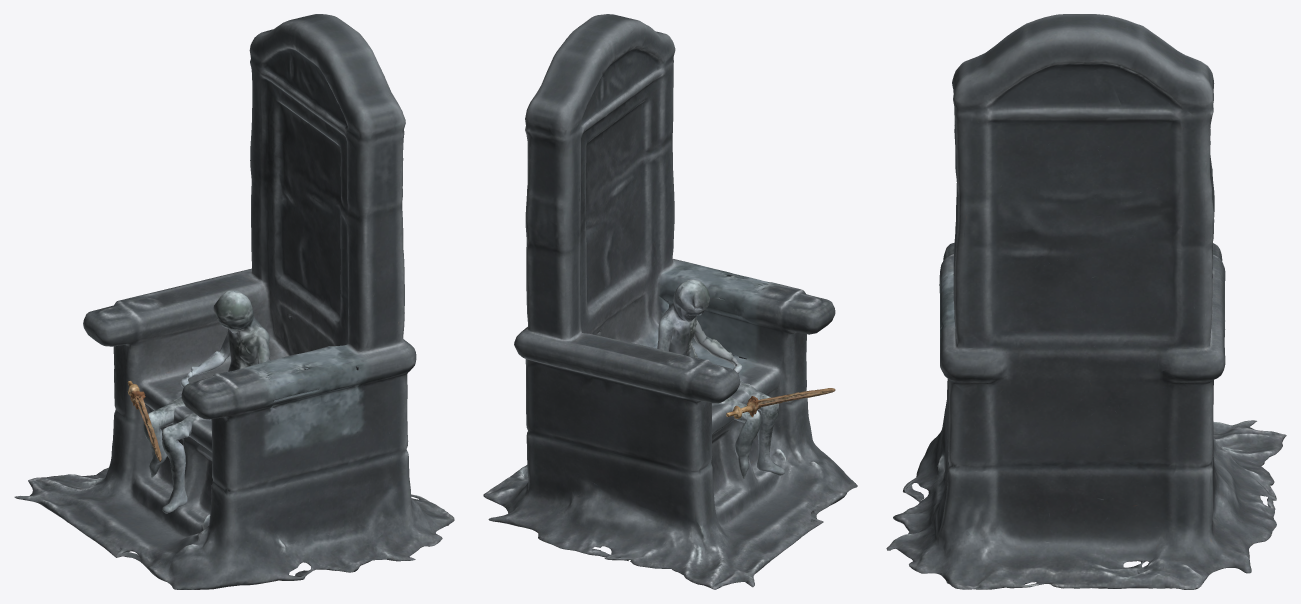
The model's file is refined.glb.
3 renders of one model, left to right at view 1: azimuth 30°, elevation 25°; view 2: azimuth 150°, elevation 25°; view 3: azimuth 270°, elevation 25°, orthographic. The views are drawn at different scales.
Parts seen in each view (by area): view 1: world; view 2: world; view 3: world.
Part boxes in pixels (box(x1,y1,x2,y2)): world: box(14, 14, 454, 589); world: box(483, 14, 857, 589); world: box(886, 14, 1286, 589).
Bounding box in the file's own units: 0.6874 × 1 × 0.6859.
1 material, 1 textured.
